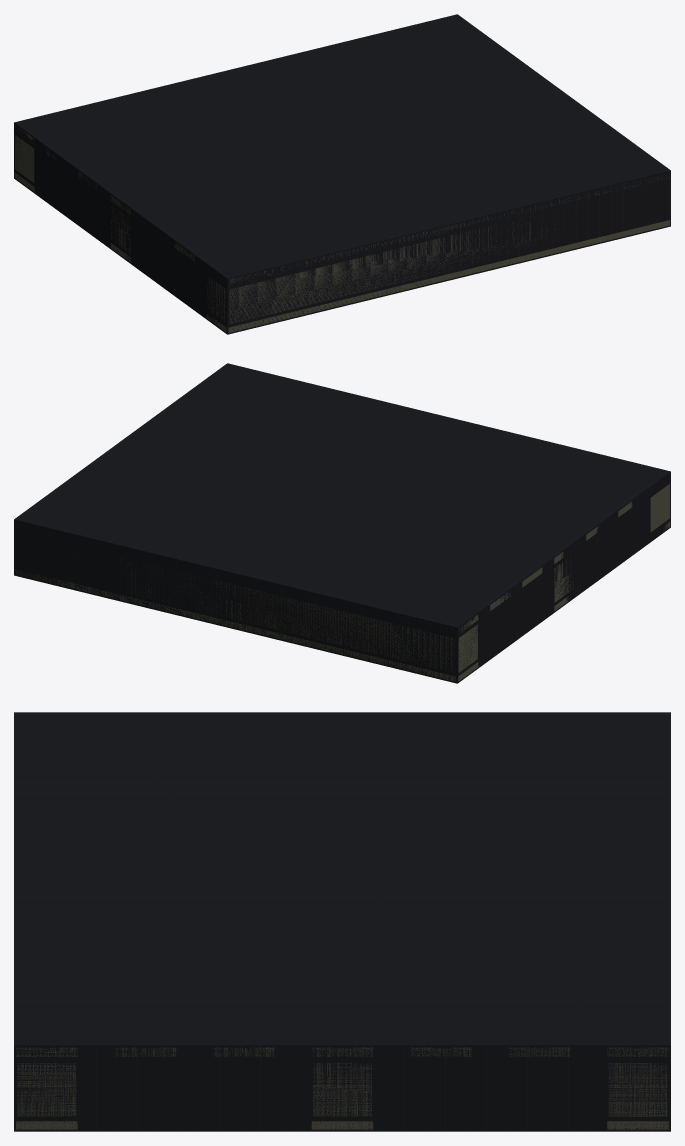
The model's file is kit_pallet.glb.
The picture shows the model from 3 angles, top to bottom: view 1: azimuth 30°, elevation 25°; view 2: azimuth 150°, elevation 25°; view 3: azimuth 270°, elevation 25°; orthographic projection. The views are drawn at different scales.
Parts seen in each view (by area): view 1: pl_COL, pl_strut0, pl_bot0, pl_strut2, pl_top0; view 2: pl_COL, pl_strut2, pl_bot2, pl_strut0; view 3: pl_COL, pl_strut2, pl_strut0, pl_strut1.
Boxes of the visible parts, left/top/right/bottom form: pl_COL: left=14, top=14, right=670, bottom=334; pl_strut0: left=207, top=217, right=555, bottom=323; pl_bot0: left=206, top=220, right=669, bottom=332; pl_strut2: left=15, top=135, right=34, bottom=182; pl_top0: left=216, top=176, right=667, bottom=284; pl_COL: left=14, top=363, right=670, bottom=683; pl_strut2: left=75, top=558, right=477, bottom=672; pl_bot2: left=15, top=570, right=478, bottom=681; pl_strut0: left=650, top=484, right=669, bottom=531; pl_COL: left=14, top=712, right=670, bottom=1131; pl_strut2: left=608, top=1063, right=667, bottom=1116; pl_strut0: left=17, top=1063, right=76, bottom=1116; pl_strut1: left=313, top=1063, right=371, bottom=1116.
Size of the model in its own units: 1.2 by 0.145 by 1.
Materials: 2 (2 with a texture image).
